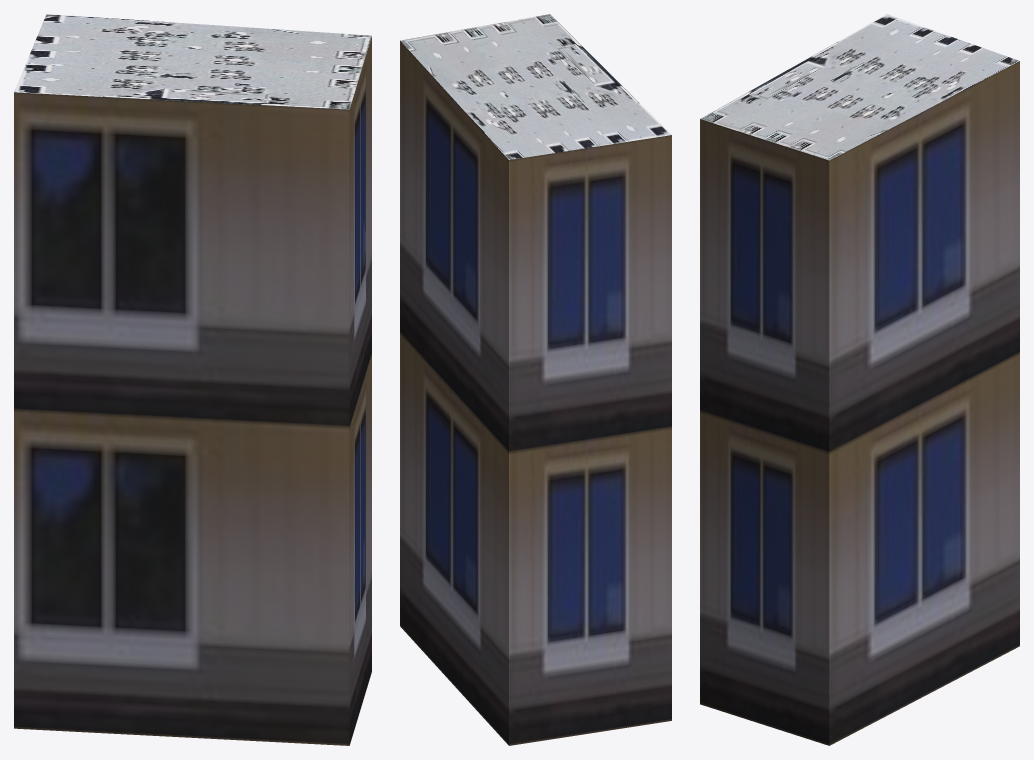
File: ResTex__1968.fbx
3 renders of one model, left to right at view 1: azimuth 30°, elevation 25°; view 2: azimuth 150°, elevation 25°; view 3: azimuth 270°, elevation 25°, orthographic. The views are drawn at different scales.
Visible parts, largest first — view 1: CityEngineMaterial_5_m, CityEngineMaterial_8_m; view 2: CityEngineMaterial_5_m, CityEngineMaterial_8_m; view 3: CityEngineMaterial_5_m, CityEngineMaterial_8_m.
Boxes of the visible parts, x1,y1,x2,y2 form: CityEngineMaterial_5_m: (14, 36, 371, 745); CityEngineMaterial_8_m: (14, 14, 371, 109); CityEngineMaterial_5_m: (400, 41, 671, 745); CityEngineMaterial_8_m: (400, 14, 671, 159); CityEngineMaterial_5_m: (700, 61, 1019, 745); CityEngineMaterial_8_m: (700, 14, 1019, 160).
Size of the model in its own units: 3.22 by 6 by 2.97.
2 materials, 2 textured.
